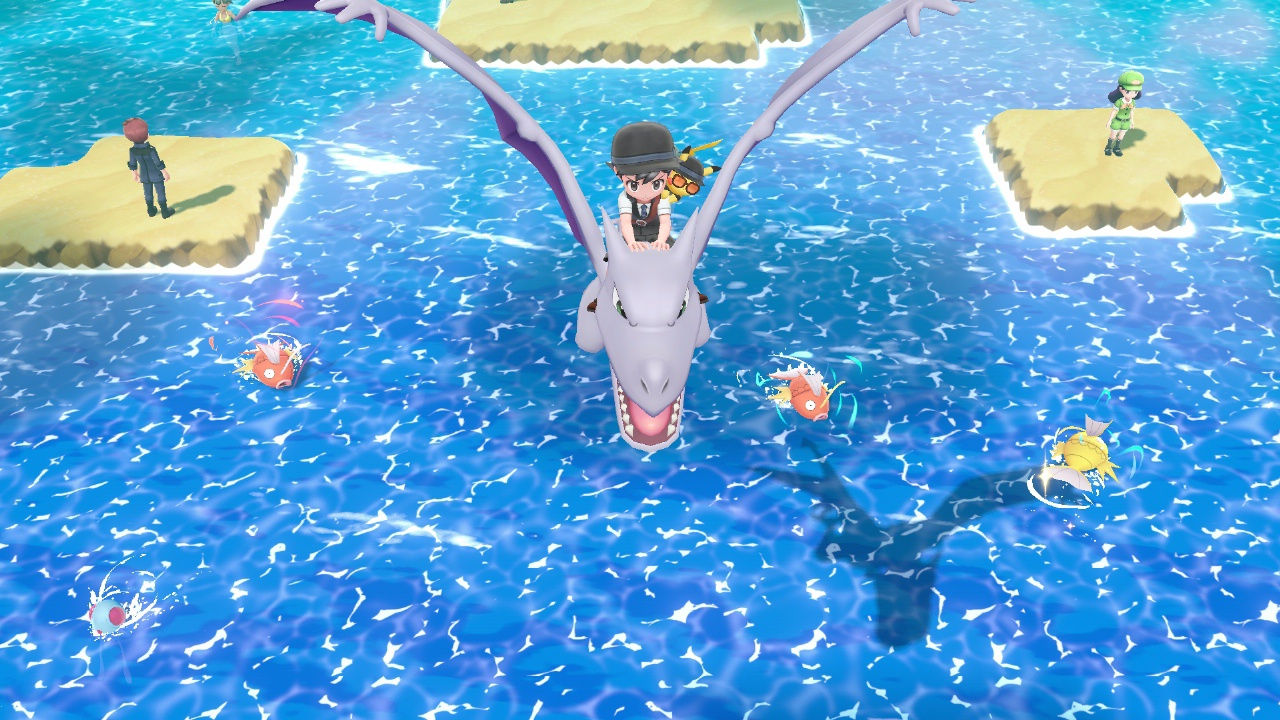Golden: (1048, 417, 1114, 487)
Red: (770, 365, 836, 422), (238, 339, 300, 389)
